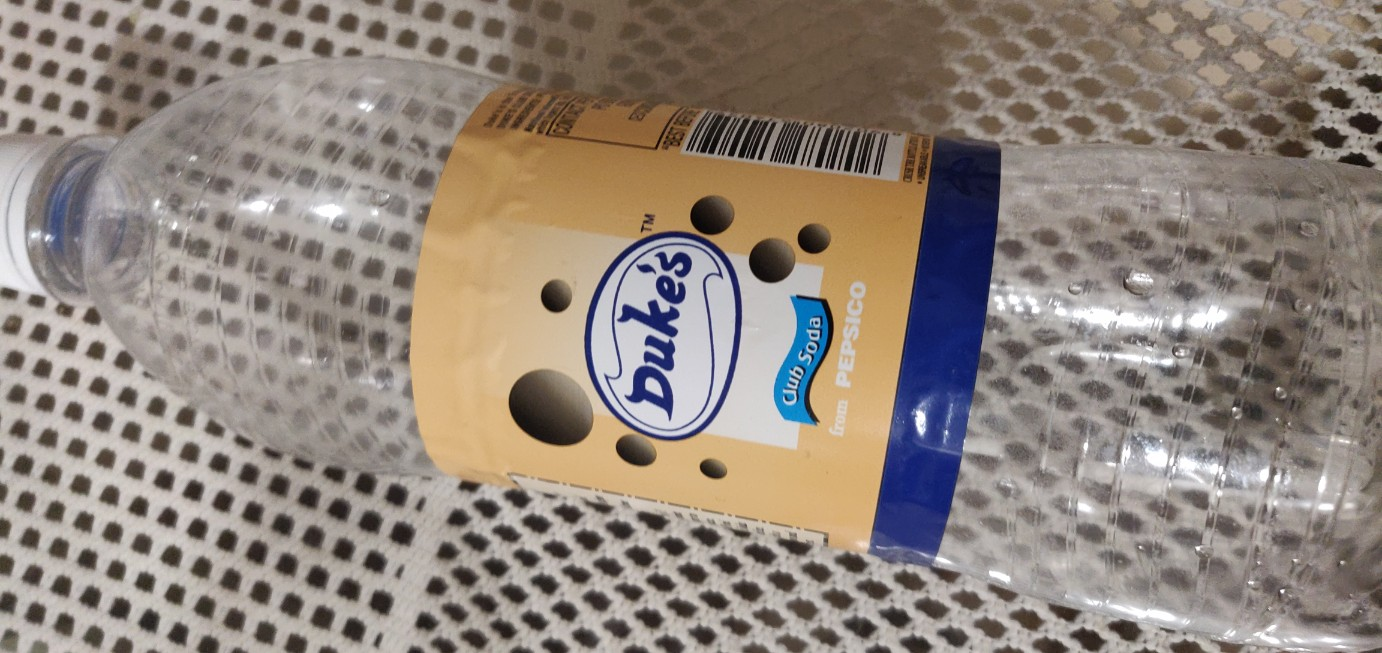Electronics: (2, 49, 1380, 651)
